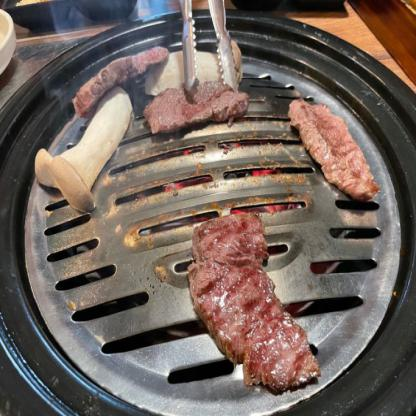Carne: (184, 210, 325, 388), (289, 96, 377, 207), (141, 83, 252, 138)
